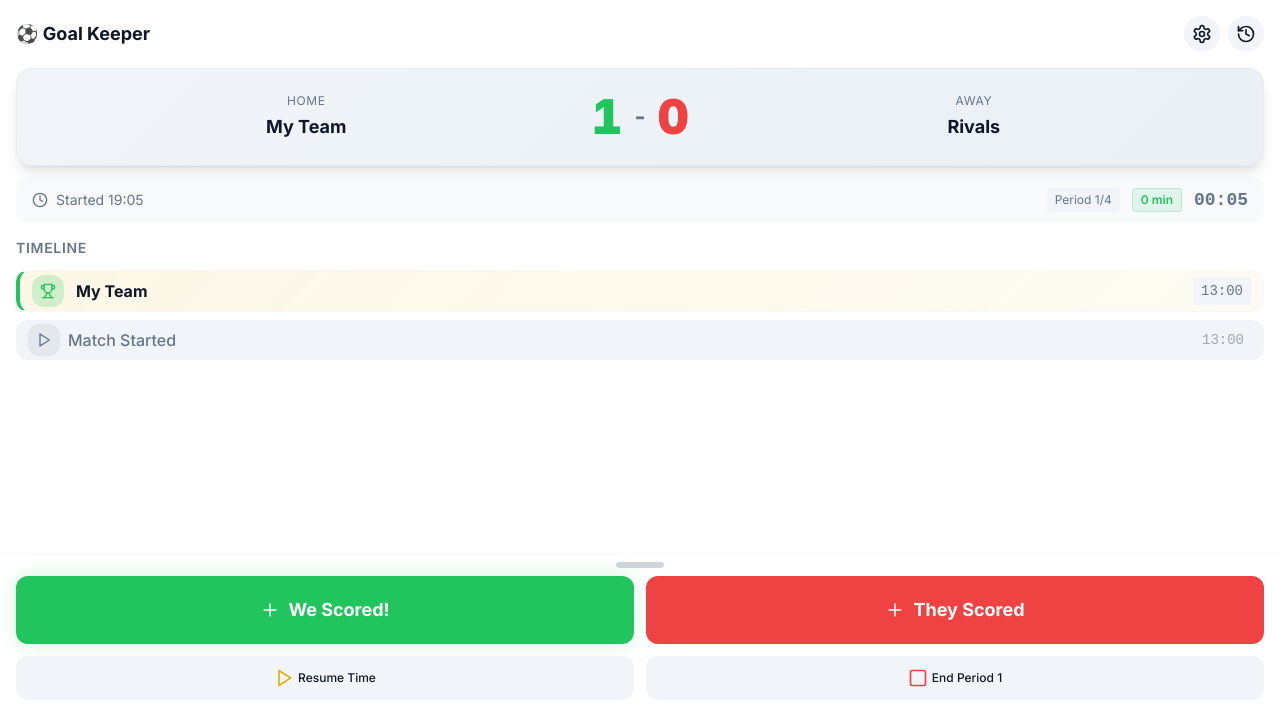
Test: Index match flow › toggles the timer from Resume Timer when running is false
Click the button named "show extra actions" at (640, 569), box [16,562,1264,576]
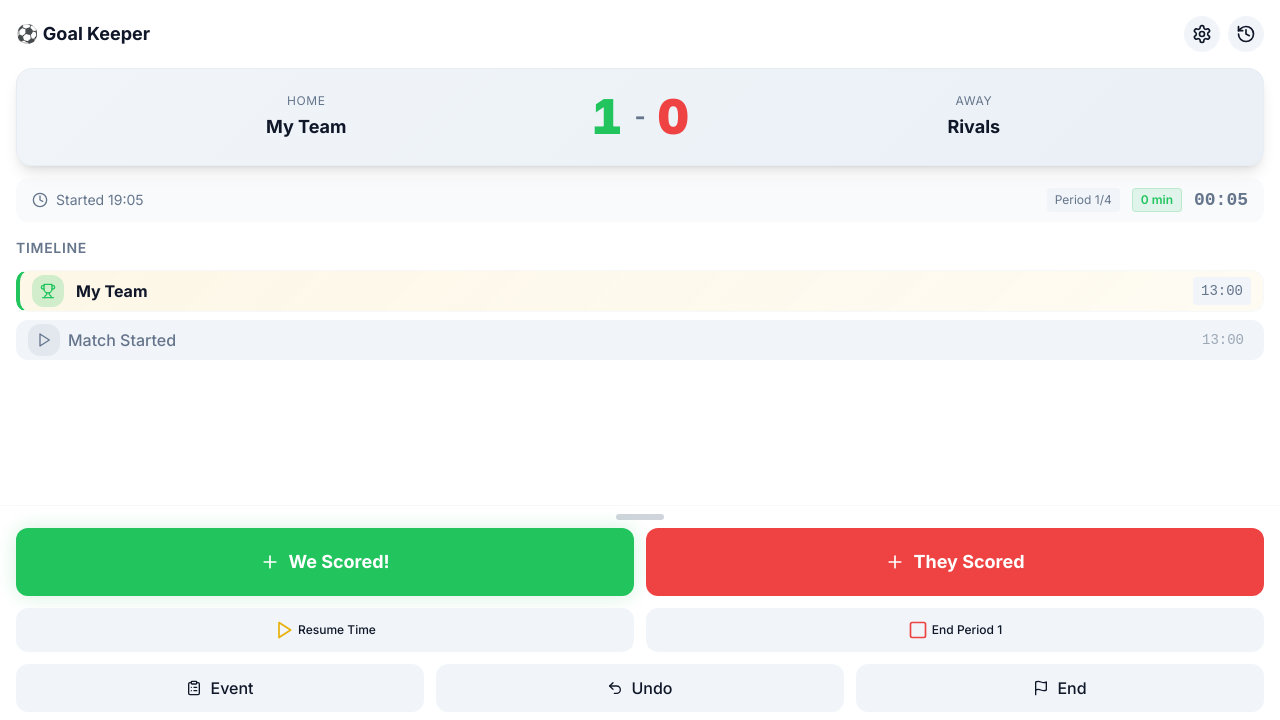
Click the button "Event" at (220, 688), box [16,664,424,712]
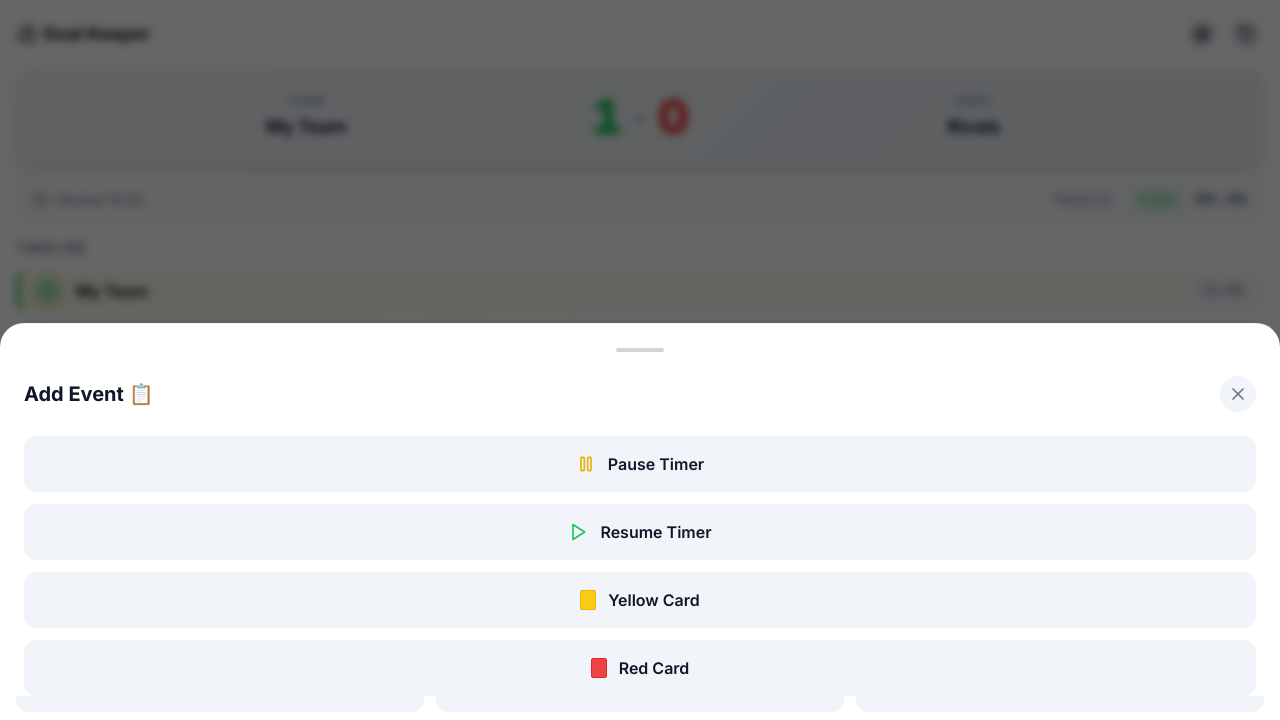
Click the button "Resume Timer" at (640, 532), box [24,504,1256,560]
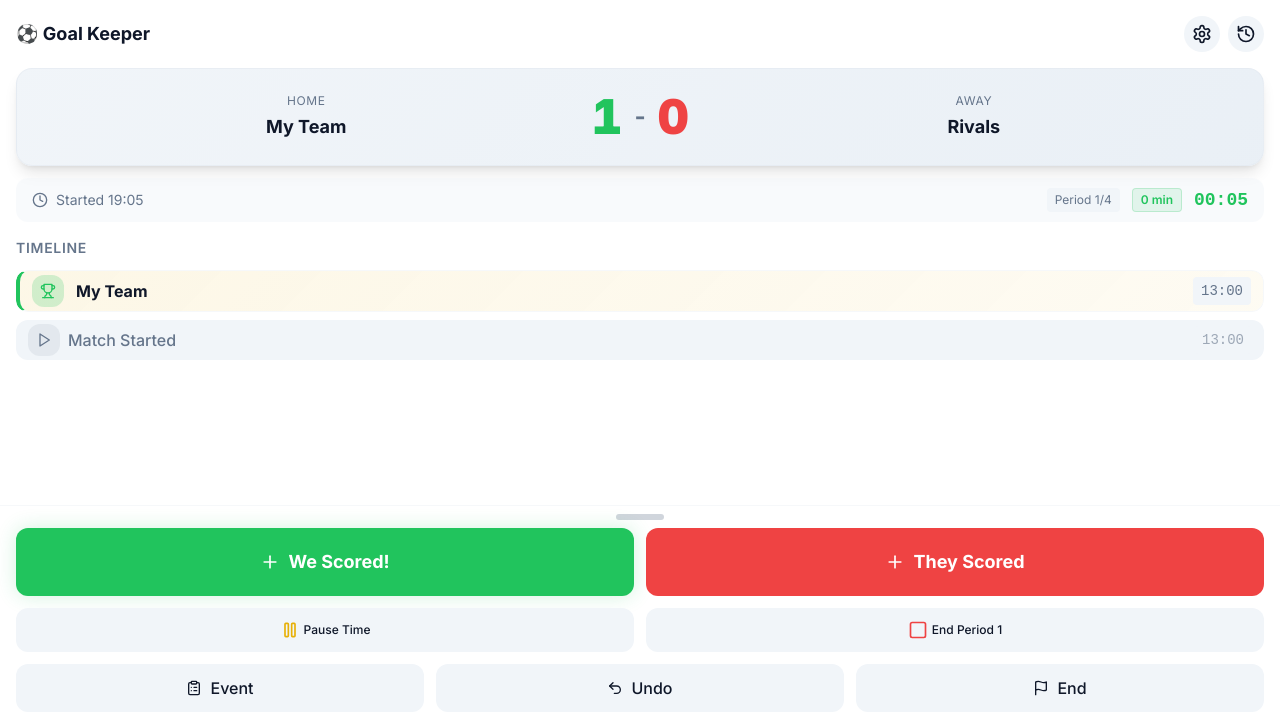
Expected: the heading "Add Event 📋" is gone
